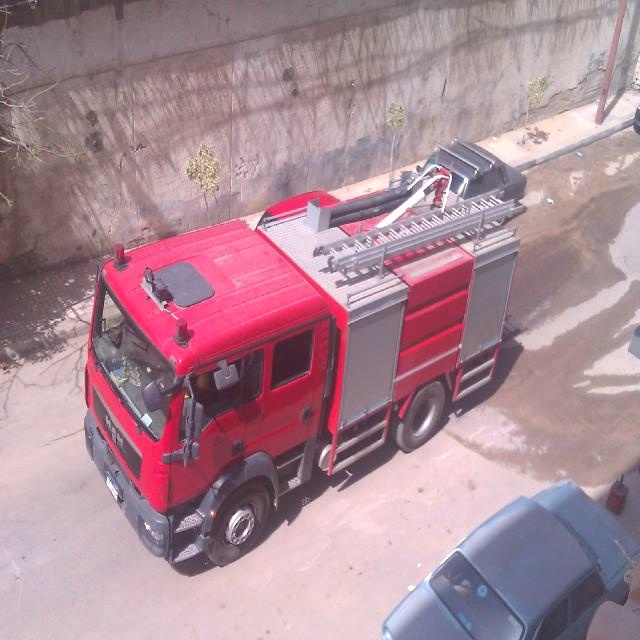Fire-truck: (83, 137, 529, 568)
car: (382, 479, 640, 640)
